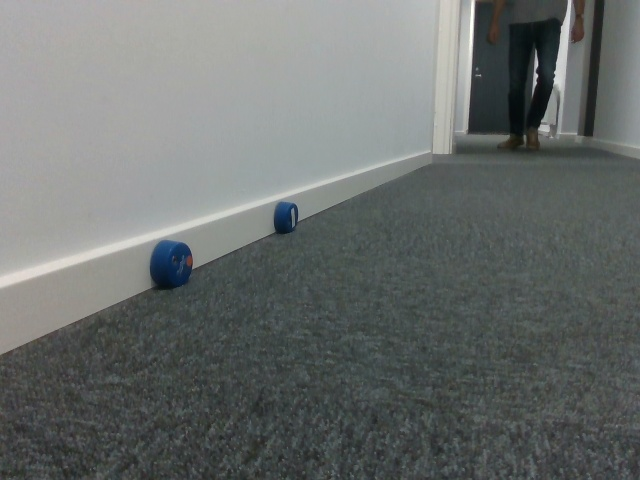alfa: (147, 237, 195, 287), (272, 199, 300, 235)
